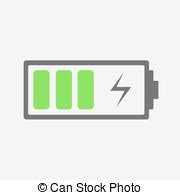charging sign: (19, 53, 167, 123)
